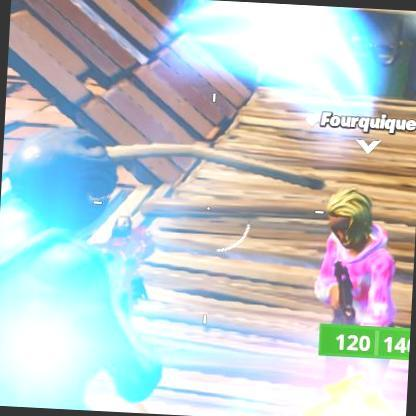person: (307, 202, 401, 392)
